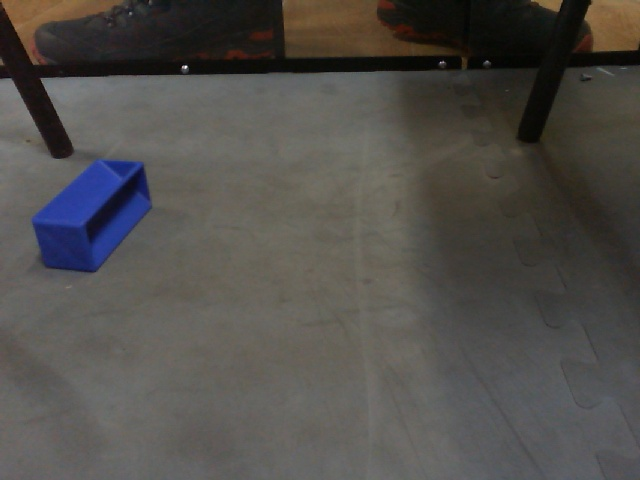BlueSample: (31, 155, 155, 276)
